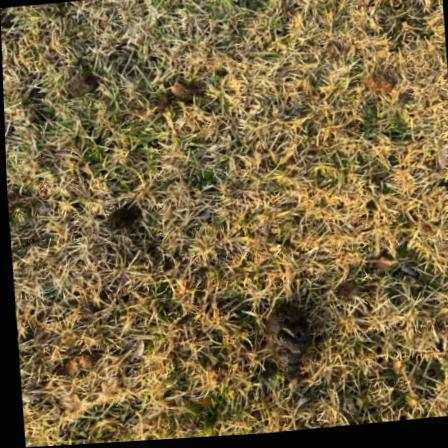dog-poop: (253, 305, 317, 387)
